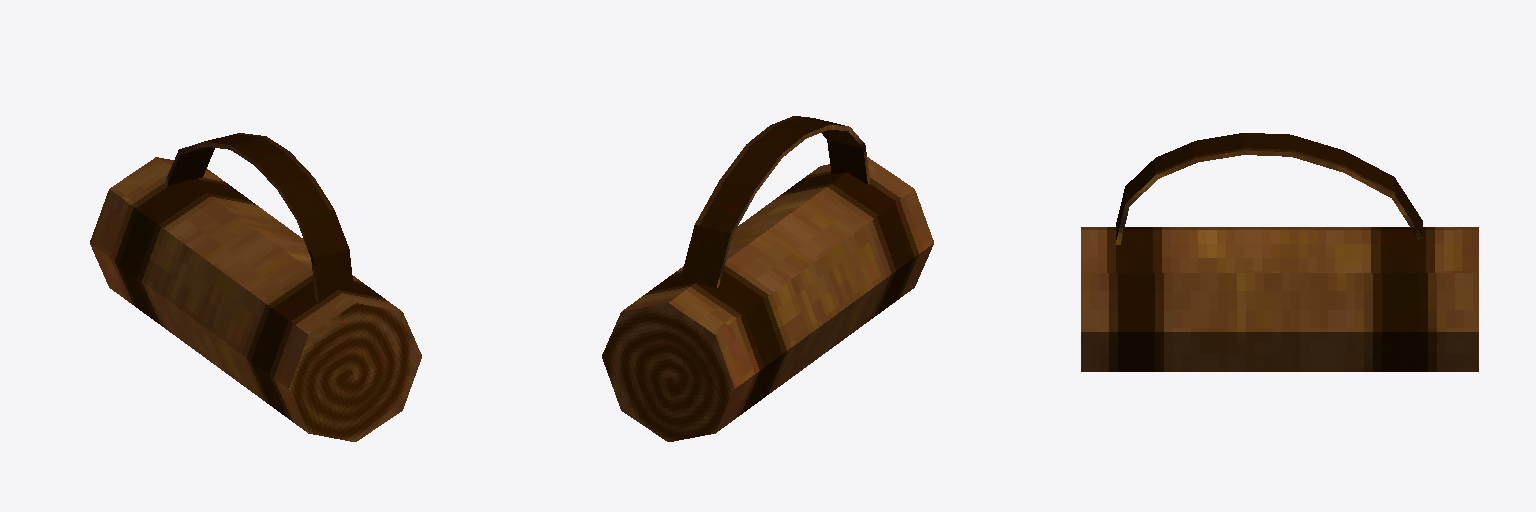
3 views of the same model, side by side, from view 1: azimuth 30°, elevation 25°; view 2: azimuth 150°, elevation 25°; view 3: azimuth 270°, elevation 25° (orthographic).
Parts seen in each view (by area): view 1: Cylinder01; view 2: Cylinder01; view 3: Cylinder01.
Boxes of the visible parts, <box> form: Cylinder01: <box>90,133,421,441</box>; Cylinder01: <box>602,116,933,441</box>; Cylinder01: <box>1081,133,1478,371</box>.
Bounding box in the file's own units: 33.85 × 55.07 × 87.67.
Materials: 1 (1 with a texture image).